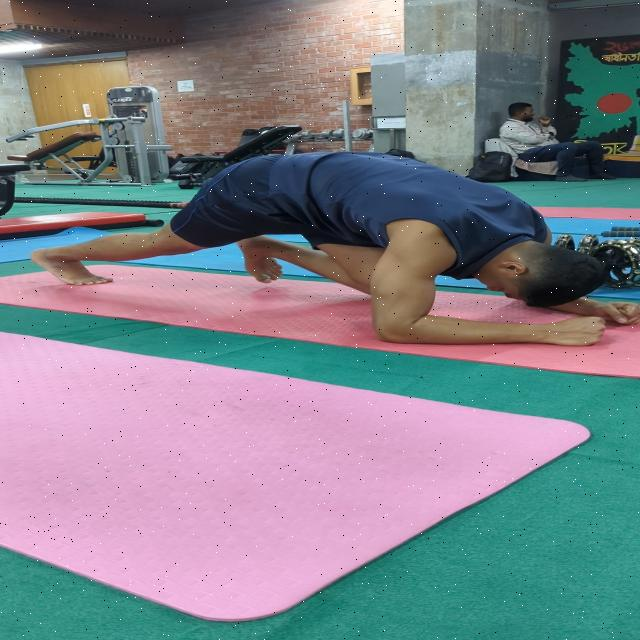Normal_MountainClimbers: (12, 129, 638, 369)
